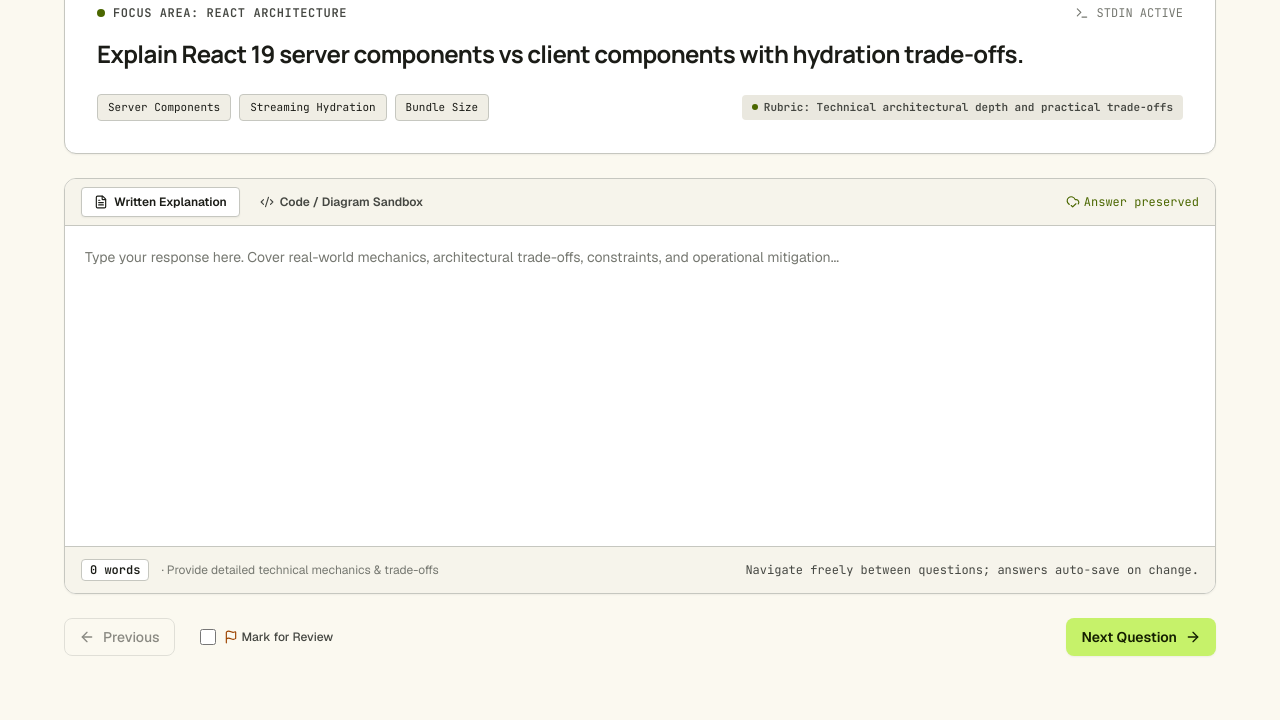
Test: TASK 2 & 5: Question Navigation & Text Diversity in InterviewArenaPage › navigates to Question 2 and verifies question text and topic change
(page scrolled)
Expected: the text "Focus Area: React Architecture" is shown, [113,5,347,21]
Note: Click "Next Question"
Click the button "Next Question": point(1141, 636) [1066,618,1216,656]
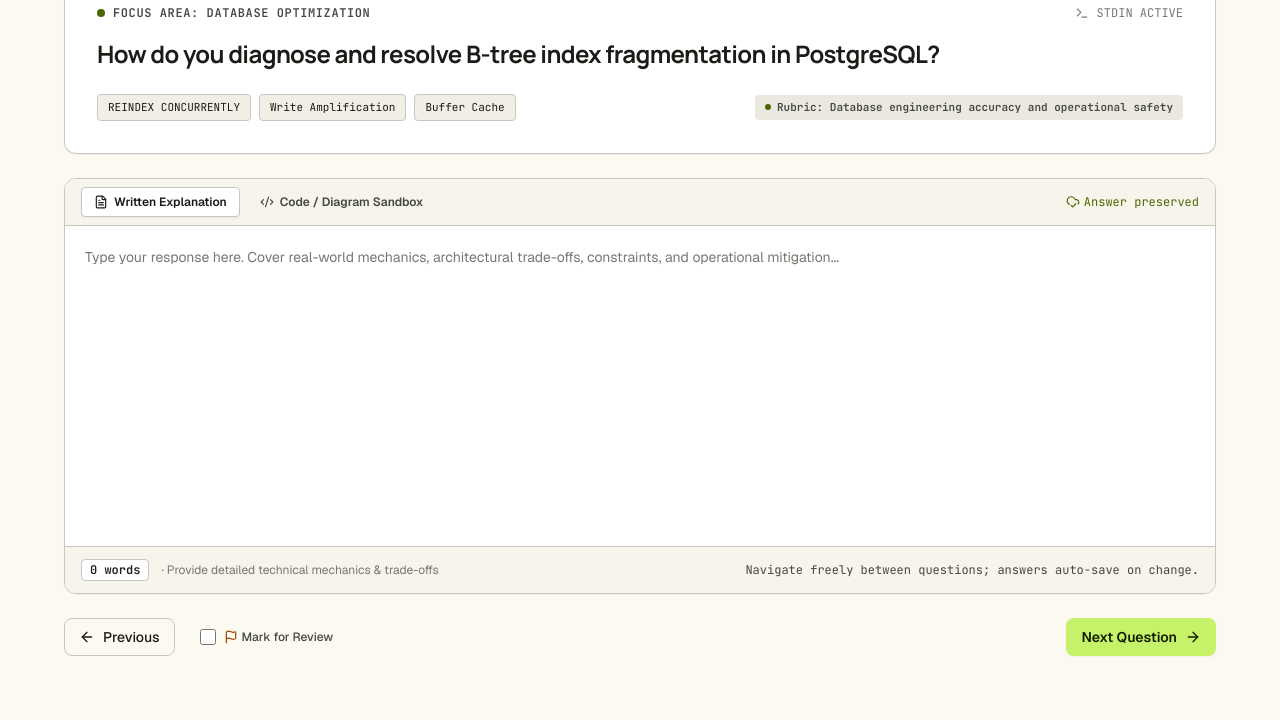
Expected: the text "Focus Area: Database Optimization" is shown, [113,5,370,21]
Expected: the heading "How do you diagnose and resolve B-tree index fragmentation" is shown, [97,37,940,70]
Expected: the text "REINDEX CONCURRENTLY" is shown, [97,94,251,120]
